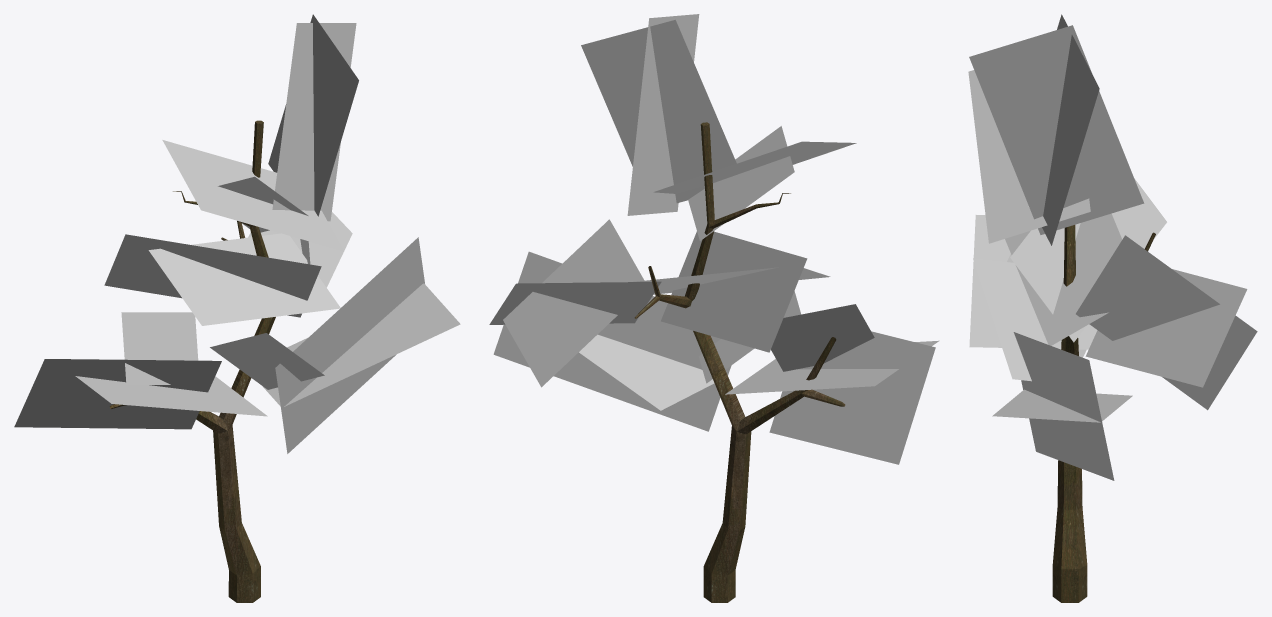
The model's file is tree_1.obj.
The picture shows the model from 3 angles, left to right: view 1: azimuth 30°, elevation 25°; view 2: azimuth 150°, elevation 25°; view 3: azimuth 270°, elevation 25°; orthographic projection. The views are drawn at different scales.
Visible parts, largest first — view 1: Plane.001, Cylinder; view 2: Plane.001, Cylinder; view 3: Plane.001, Cylinder.
Boxes of the visible parts, <box> form: Plane.001: <box>14,14,460,453</box>; Cylinder: <box>110,120,275,602</box>; Plane.001: <box>489,14,939,464</box>; Cylinder: <box>634,122,845,602</box>; Plane.001: <box>968,14,1257,480</box>; Cylinder: <box>1052,225,1155,602</box>.
Size of the model in its own units: 9.37 by 12.2 by 5.26.
